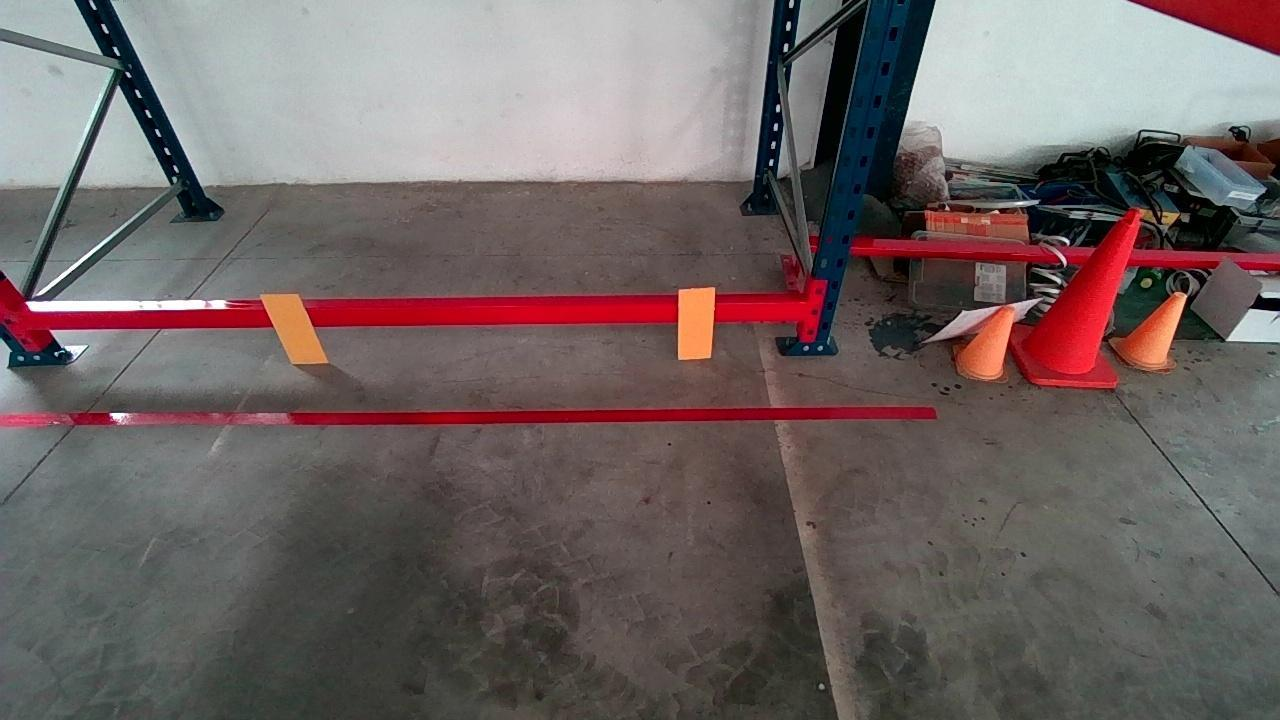h_rack: (25, 298, 807, 336)
orange_strip: (262, 292, 328, 363), (677, 287, 715, 358)
red_line: (0, 403, 936, 428)
